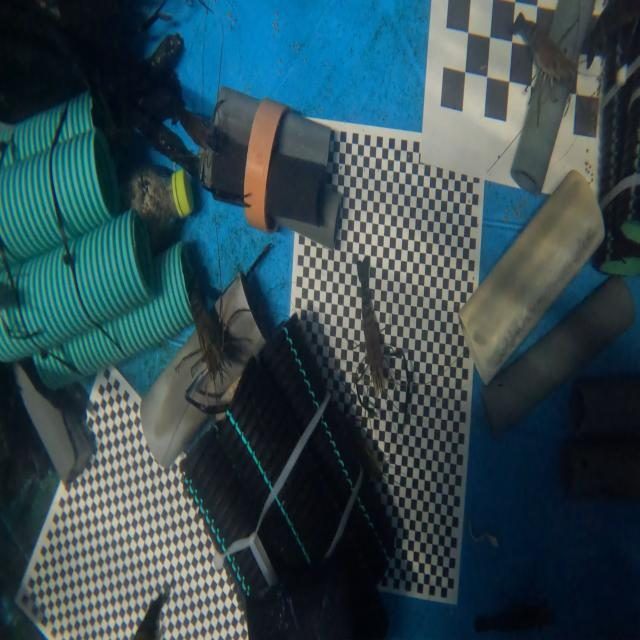prawn: (187, 303, 242, 413), (514, 5, 576, 83), (358, 258, 386, 391)
